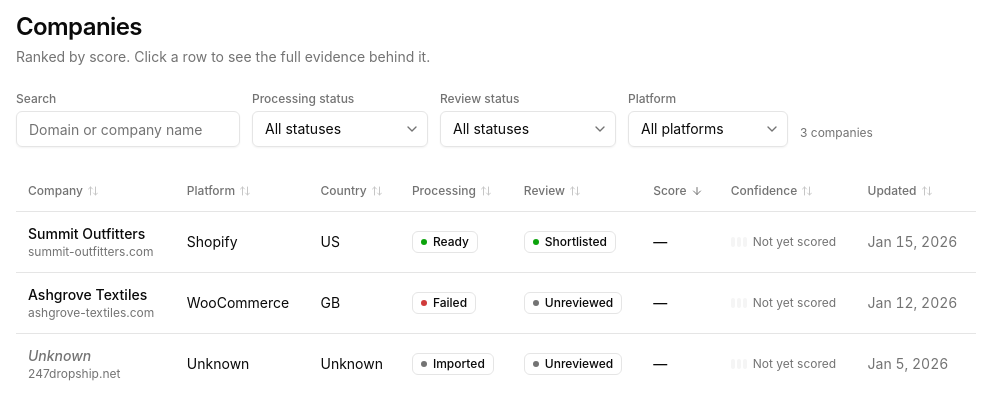
Test: CompaniesPage › filters by processing status, forwarding the filter to listCompanies
The width and height of the screenshot is (993, 398).
Expected: the text "Summit Outfitters" is shown, [28,224,163,244]
Select "failed" in the dropdown labelled "Processing status" at (340, 129), box [252,111,428,147]
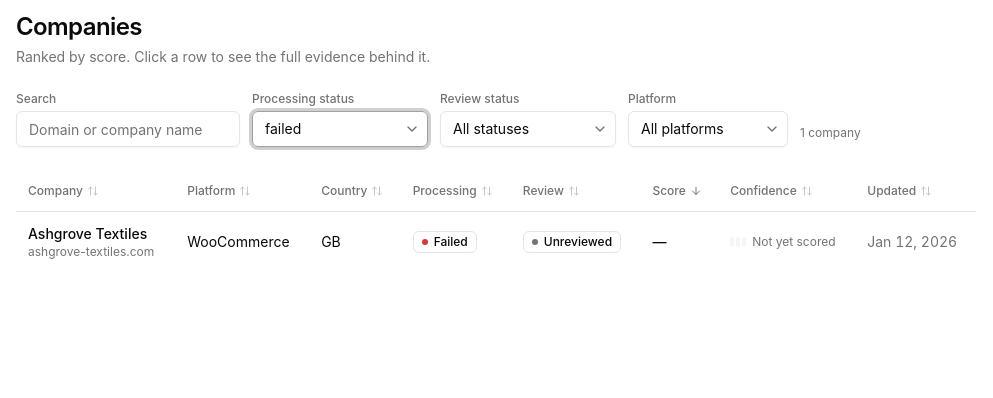
Expected: the text "Ashgrove Textiles" is shown, [28,224,163,244]
Expected: the text "1 company" is shown, [800,125,861,147]
Expected: the link "Summit Outfitters" is gone
